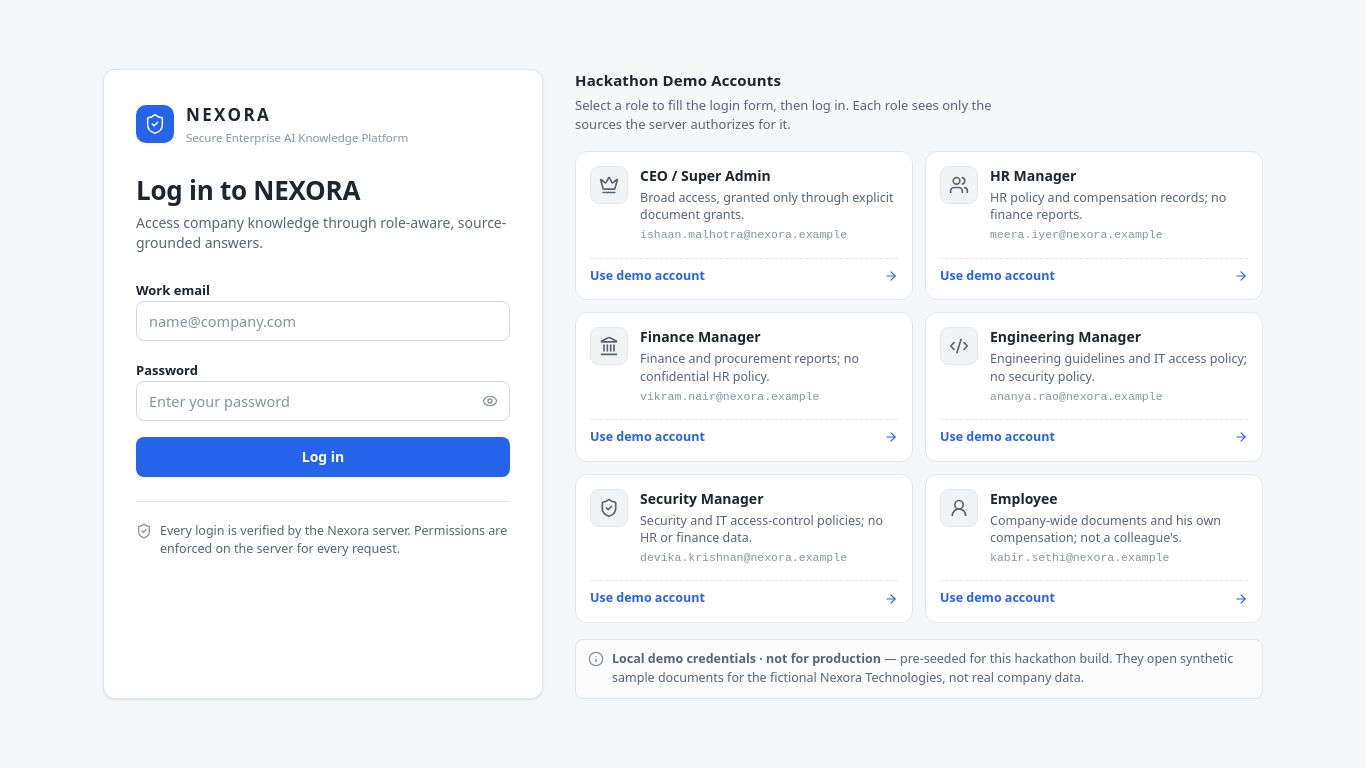
Scenario: hackathon demo accounts › logs in through the real API and shows the server's identity as authenticated
Click the button with test id "demo-account-SUPER_ADMIN".
click(744, 226)  # box [575,151,913,300]
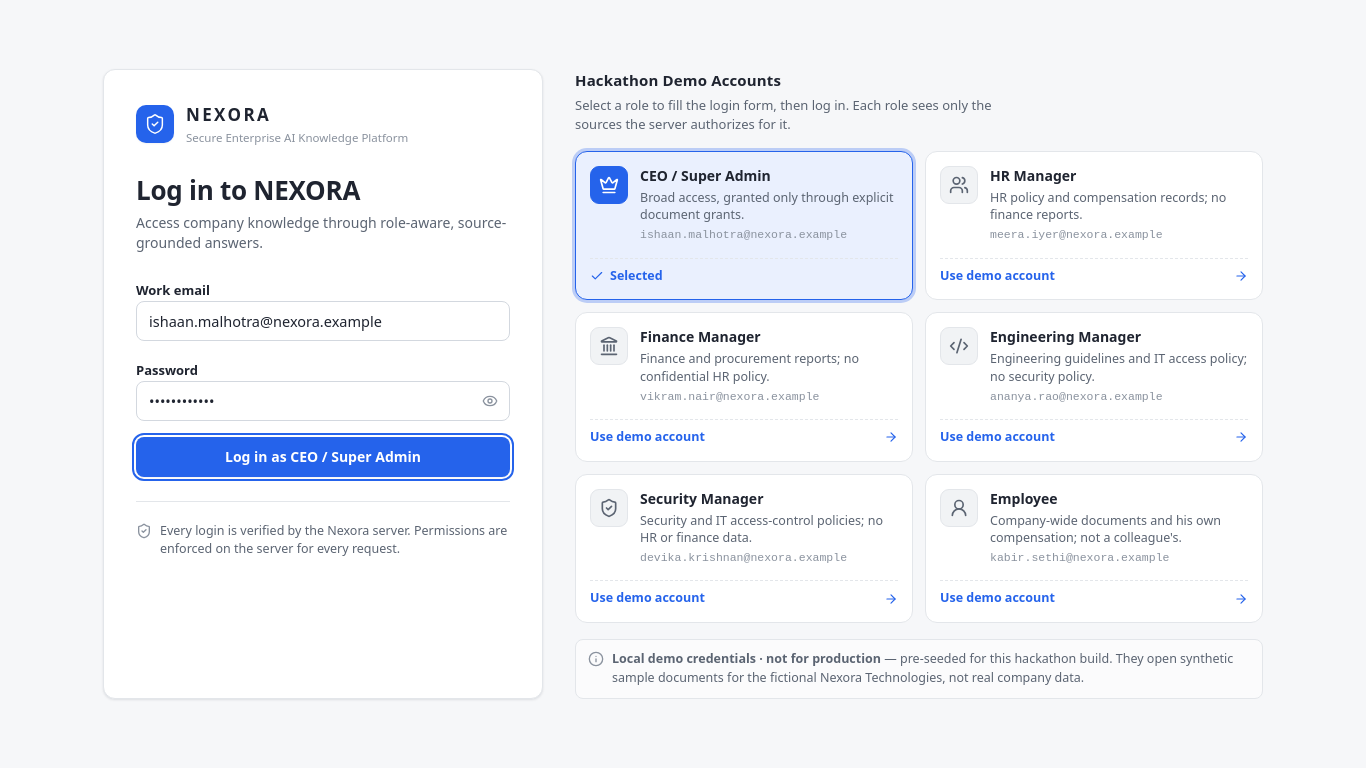
Click the button "Log in as CEO / Super Admin".
click(323, 457)  # box [136,437,510,477]
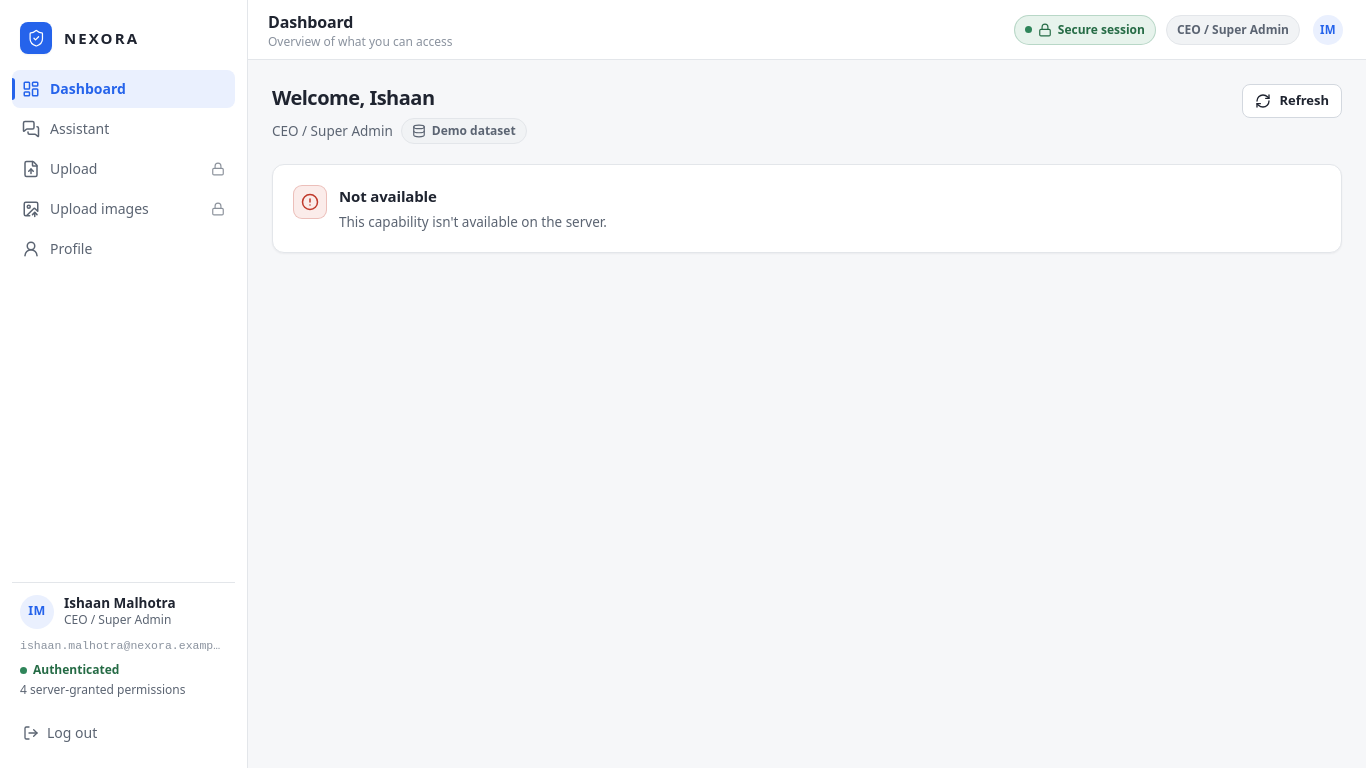
Expected: the element with test id "auth-state" reads "Authenticated", [33,661,119,678]
Expected: the element with test id "session-card" shows "Ishaan Malhotra", [64,594,176,612]
Expected: the element with test id "session-card" shows "CEO / Super Admin", [64,611,171,628]
